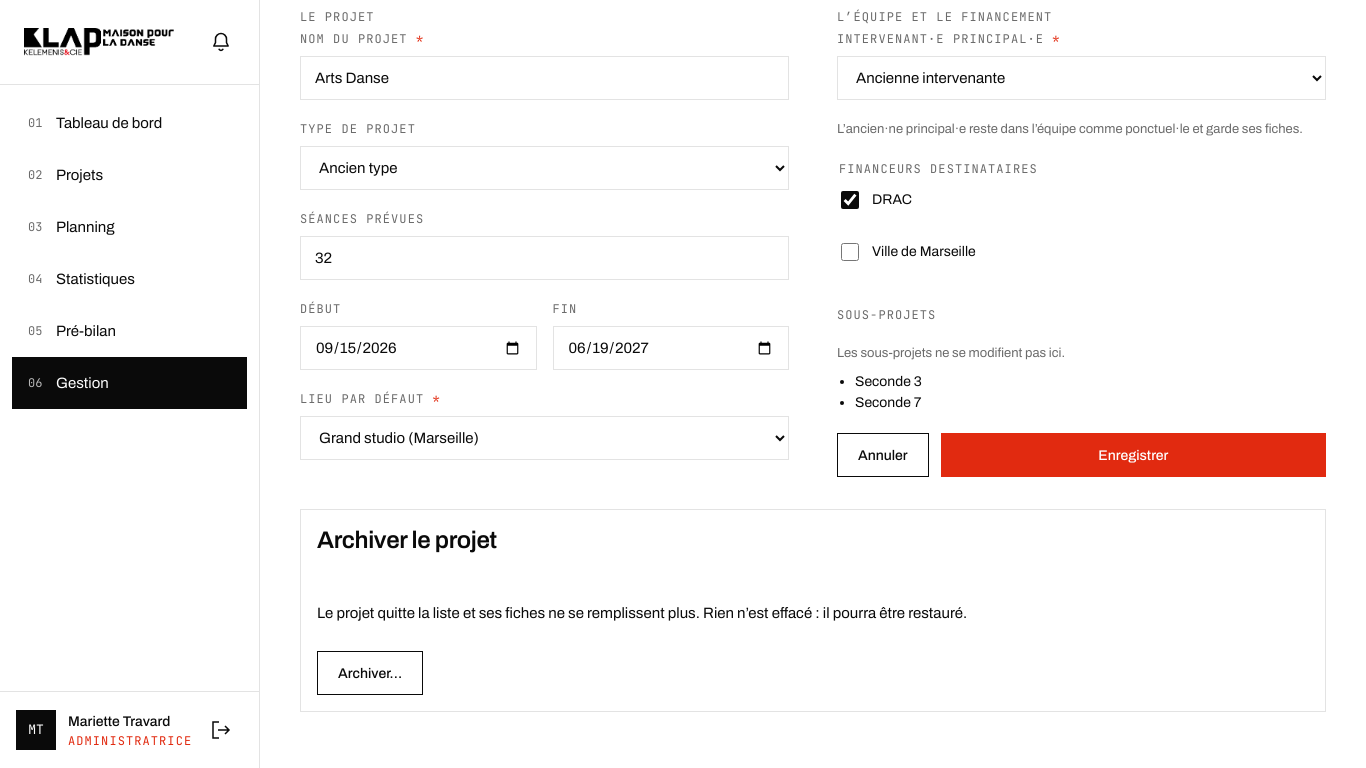
Test case: Modifier un projet › archive après la saisie du nom, et montre l’erreur si le nom diffère
(page scrolled)
Click the button "Archiver…": (370, 673) [317, 651, 423, 695]
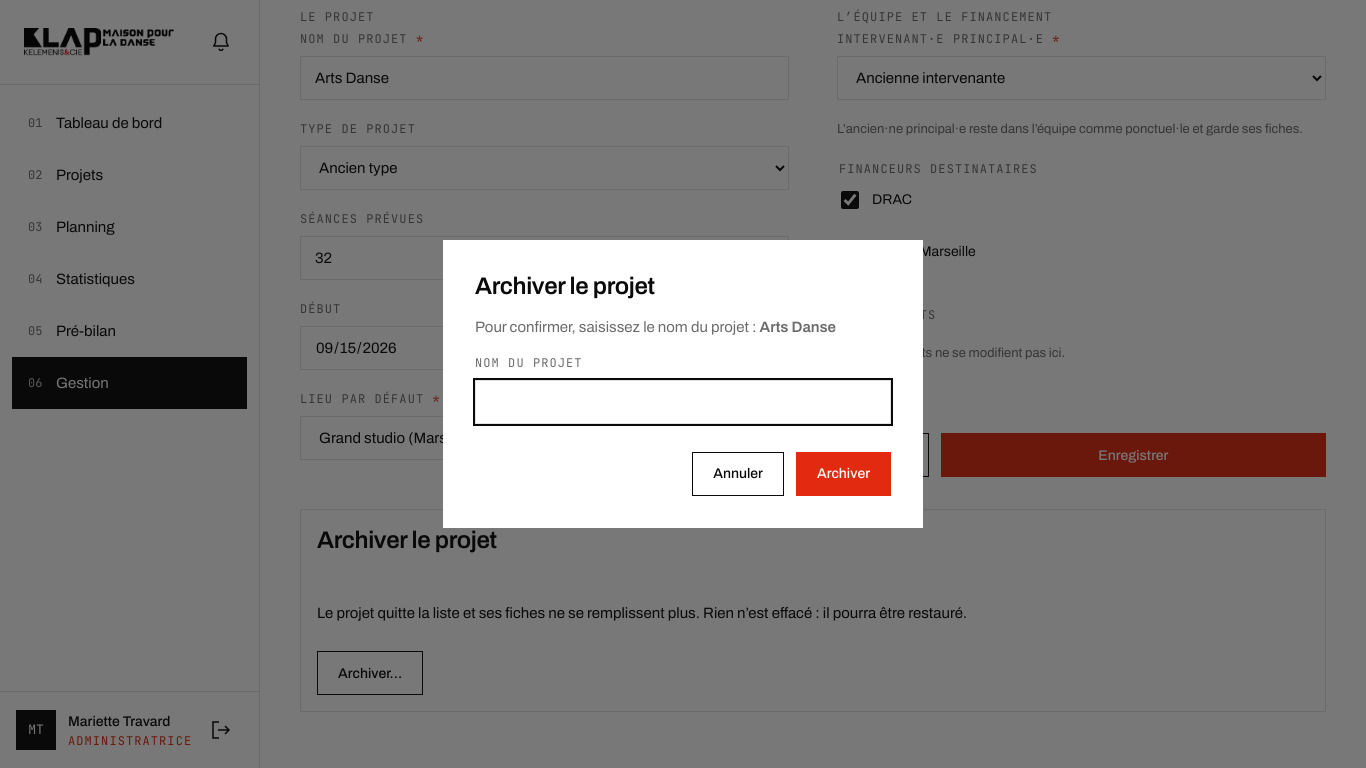
In the field labelled "Nom du projet": (683, 402) [475, 380, 891, 424], type "Arts"
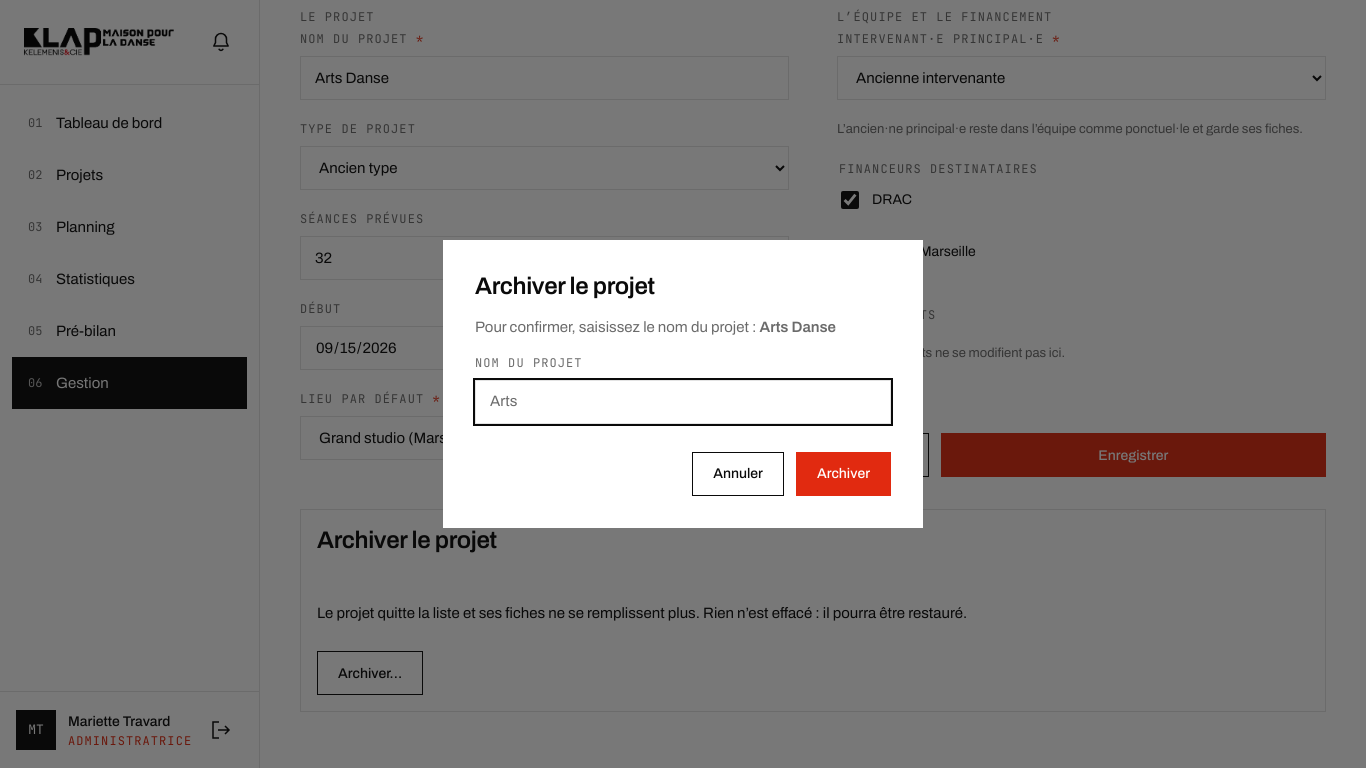
Click the button "Archiver": (844, 474) [796, 452, 891, 496]
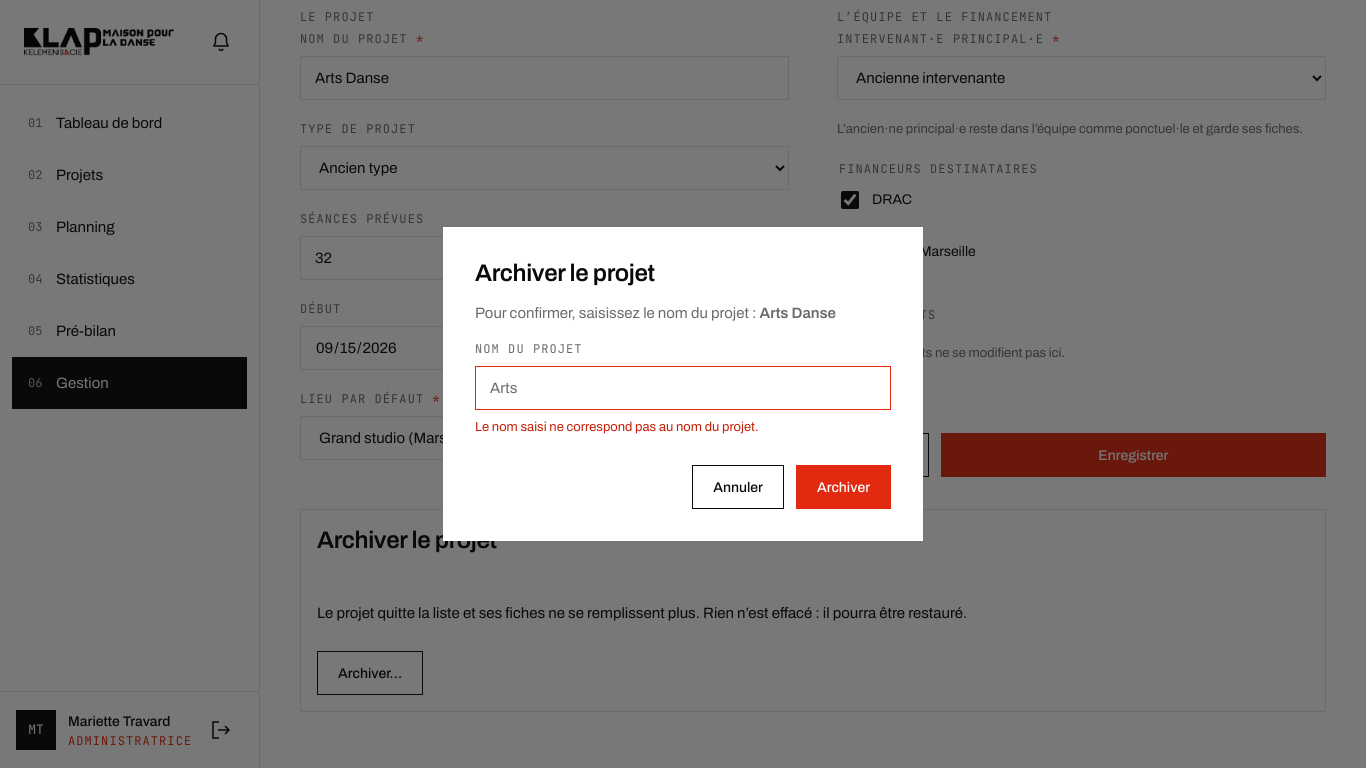
expect the text "Le nom saisi ne correspond pas au nom du projet." is shown: met, box [475, 420, 758, 434]
Replace the text in the field labelled "Nom du projet" with "Arts Danse": (683, 388) [475, 366, 891, 410]
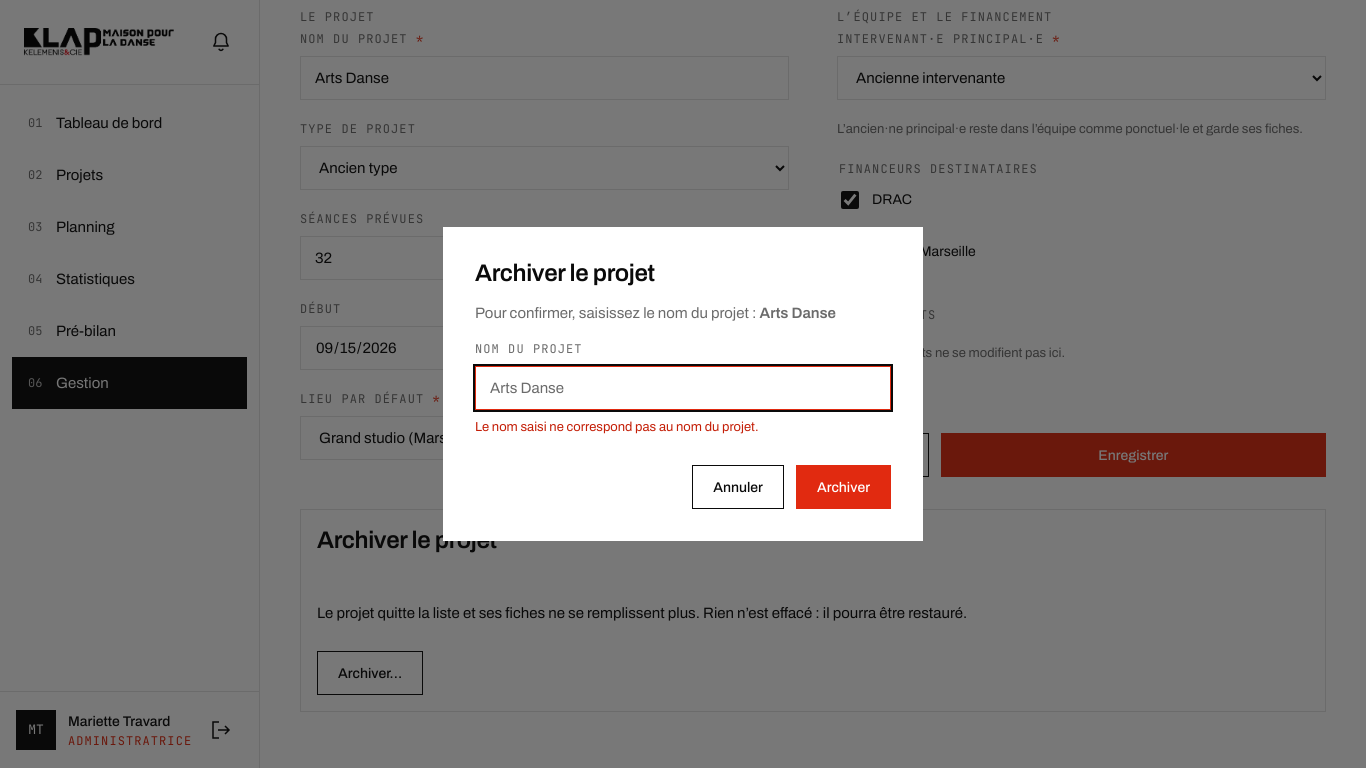
Click the button "Archiver": (844, 487) [796, 465, 891, 509]
(page scrolled)
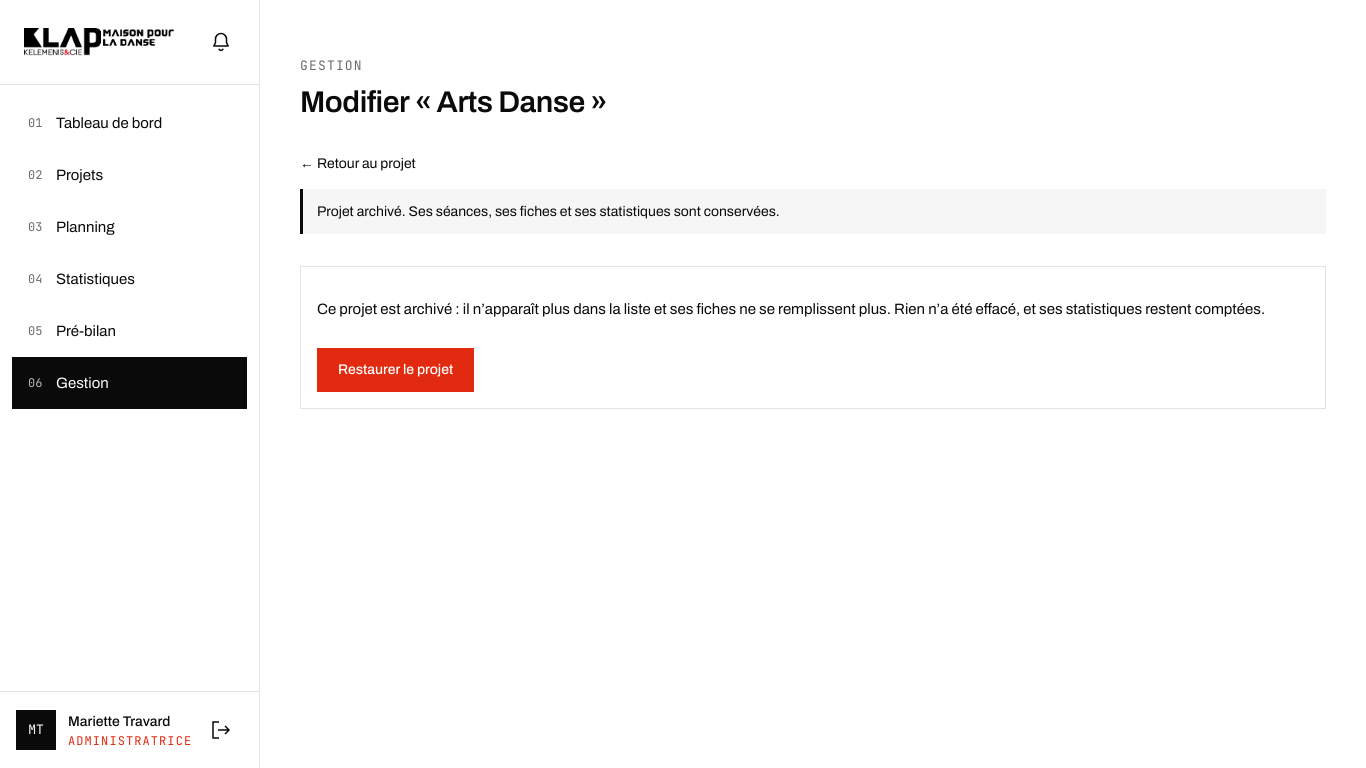
expect the message shows "Projet archivé.": met, box [317, 204, 780, 219]
expect the dialog is gone: met
expect the button "Restaurer le projet" is shown: met, box [317, 348, 474, 392]
